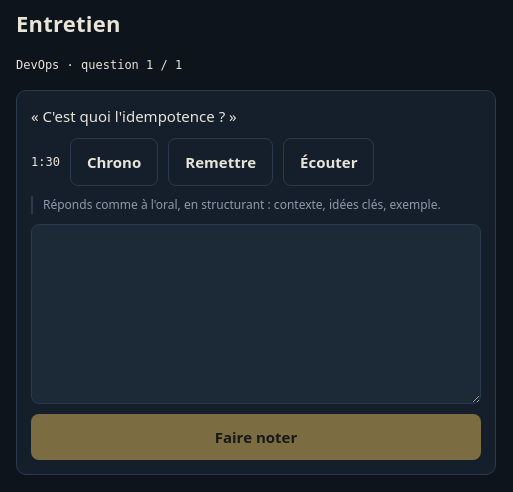
it: le chrono décompte depuis la limite de la question
The width and height of the screenshot is (513, 492).
Expected: the text "« C'est quoi l'idempotence ? »" is shown, [31,106,237,126]
Expected: the text "1:30" is shown, [31,153,60,171]
Click the button "Chrono".
click(114, 162)  # box [70,138,158,186]
Wait 3000 ms
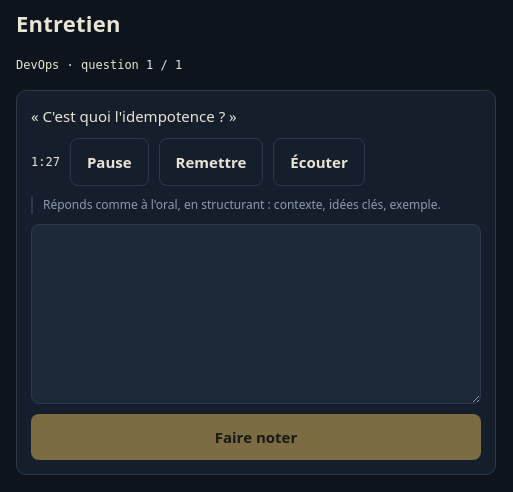
Expected: the text "1:27" is shown, [31,153,60,171]
